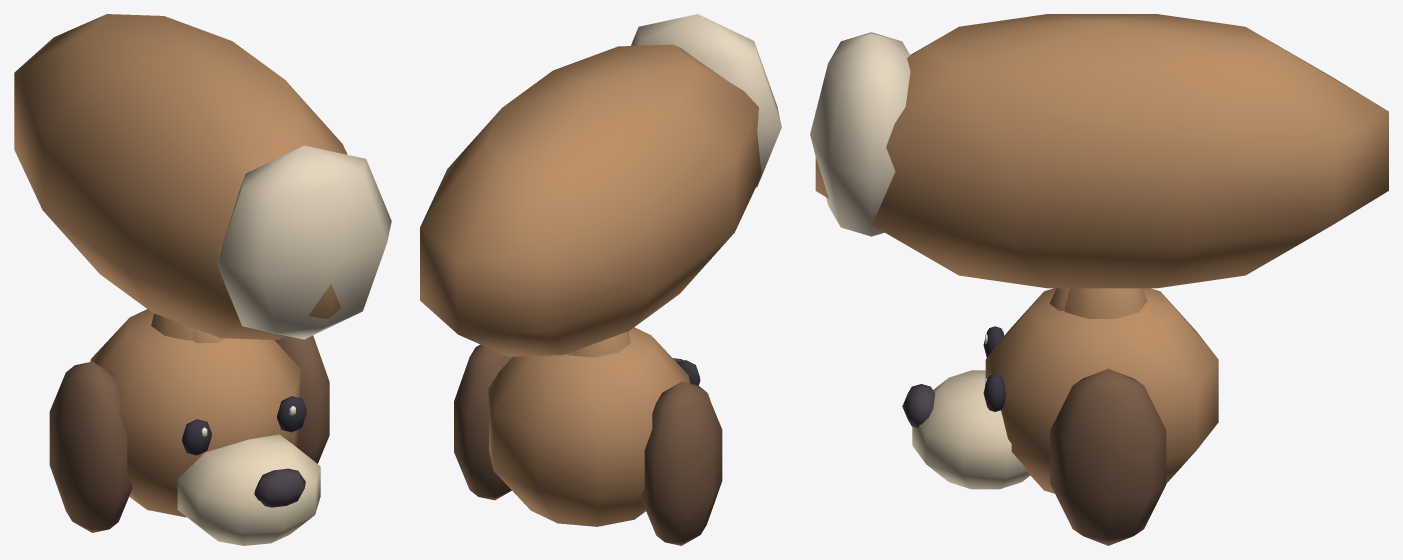
File: dog_parts.glb
The picture shows the model from 3 angles, left to right: view 1: azimuth 30°, elevation 25°; view 2: azimuth 150°, elevation 25°; view 3: azimuth 270°, elevation 25°; orthographic projection. The views are drawn at different scales.
Visible parts, largest first — view 1: Body, Head, Leg; view 2: Body, Head, Leg; view 3: Body, Head, Leg.
Boxes of the visible parts, x1,y1,x2,y2 form: Body: (14,14,391,339); Head: (49,309,329,545); Leg: (151,313,192,340); Body: (420,14,781,356); Head: (454,327,722,545); Leg: (567,331,630,357); Body: (810,14,1388,288); Head: (902,288,1218,545); Leg: (1064,288,1145,318).
Bounding box in the file's own units: 0.5035 × 0.85 × 0.941.
